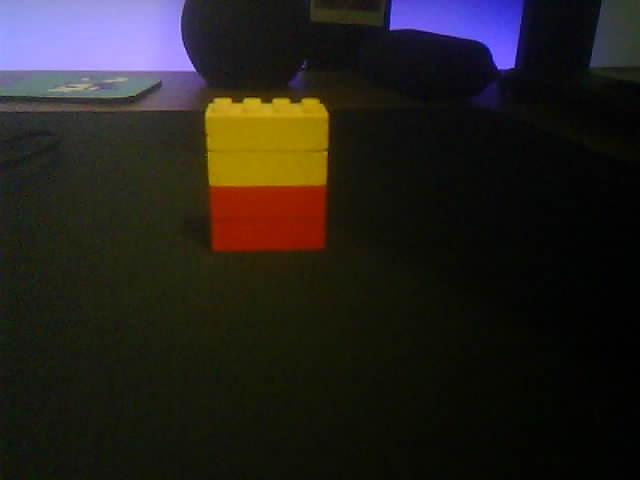lego: (204, 96, 330, 252)
